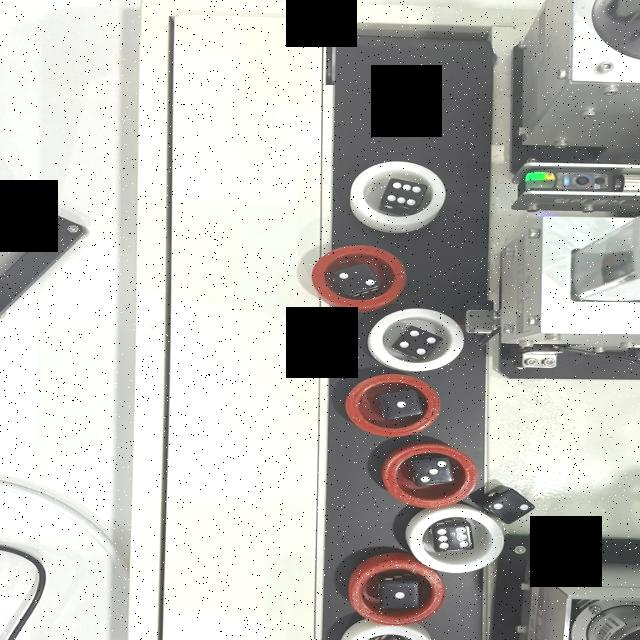DICE1: (382, 580, 414, 608), (386, 392, 419, 414)
DICE2: (335, 264, 377, 292), (487, 493, 532, 517)
DICE3: (410, 458, 458, 488)
DICE4: (397, 326, 441, 357)
DICE6: (432, 522, 477, 550), (384, 180, 424, 208)
RedChip: (380, 442, 480, 508), (310, 243, 406, 309), (342, 373, 444, 435), (350, 562, 445, 624)
WhiteChip: (350, 158, 450, 232), (408, 506, 504, 574), (368, 308, 462, 372), (342, 624, 438, 640)
